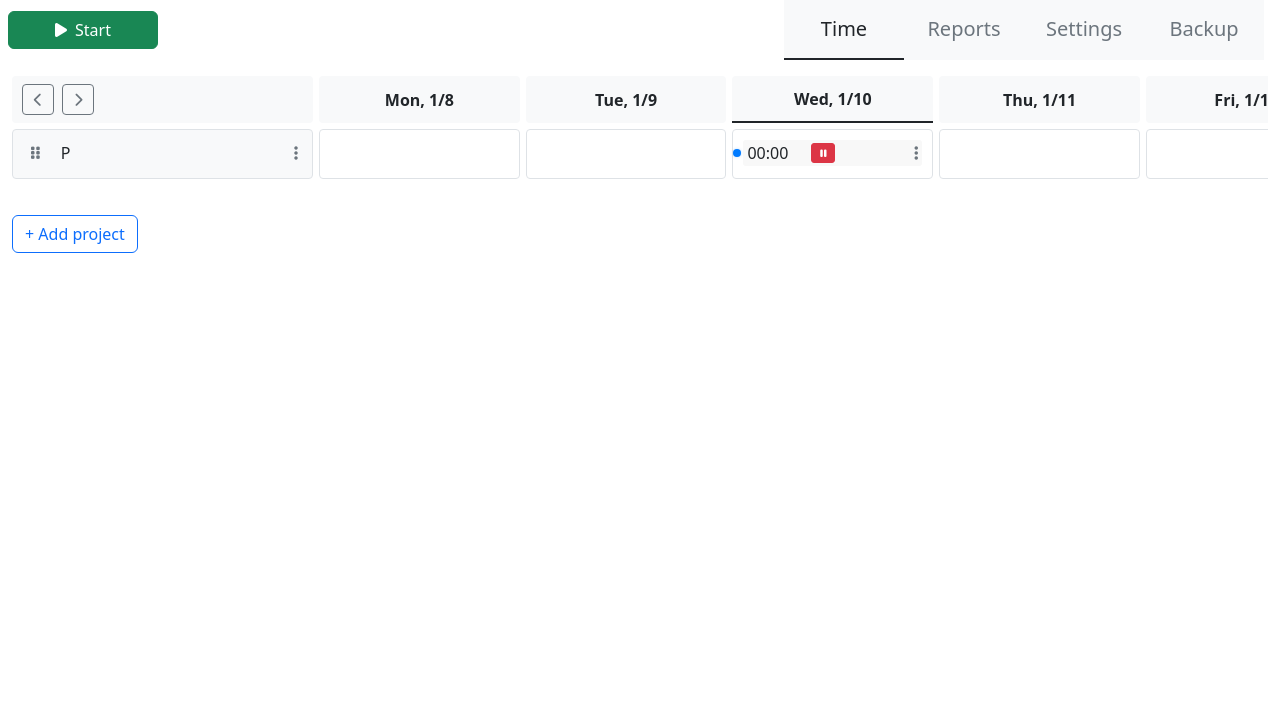
Test case: App flows › Edit billable rate affects Reports
# Open project menu
Click the 5th button at x=296, y=153, box 290,141 -> 302,165
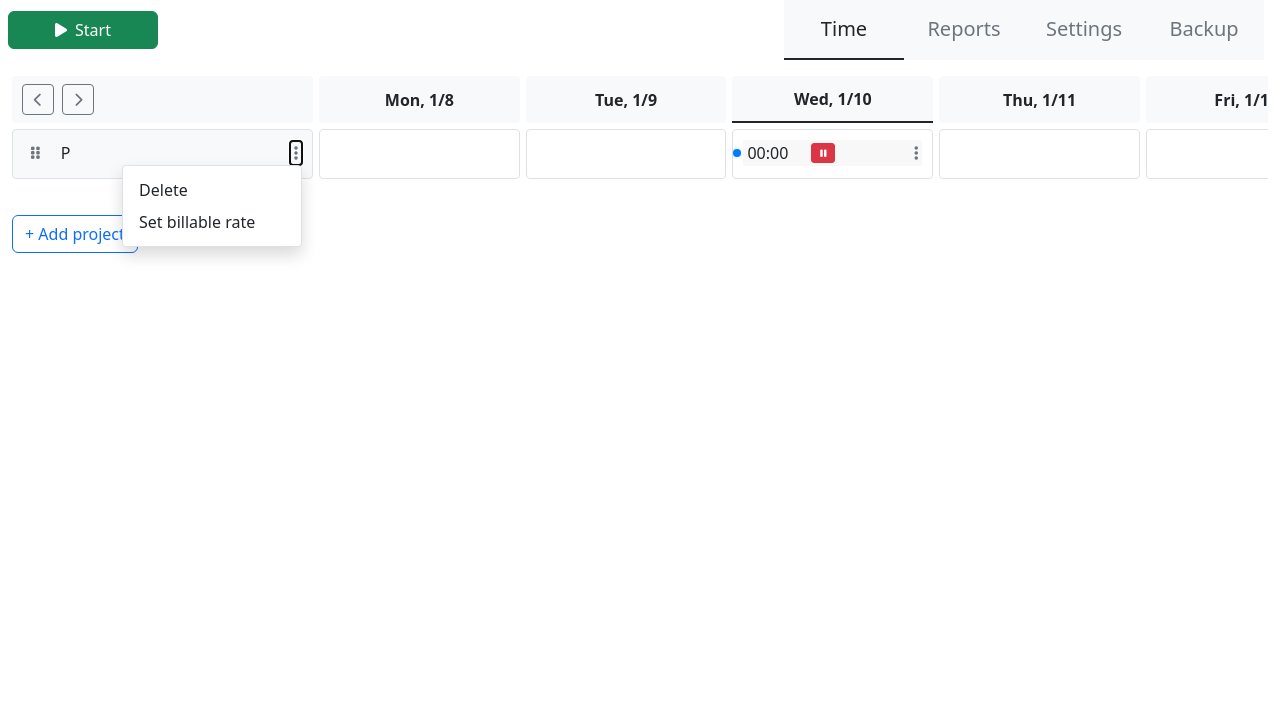
Click the button "Set billable rate" at x=212, y=222, box 123,206 -> 301,238
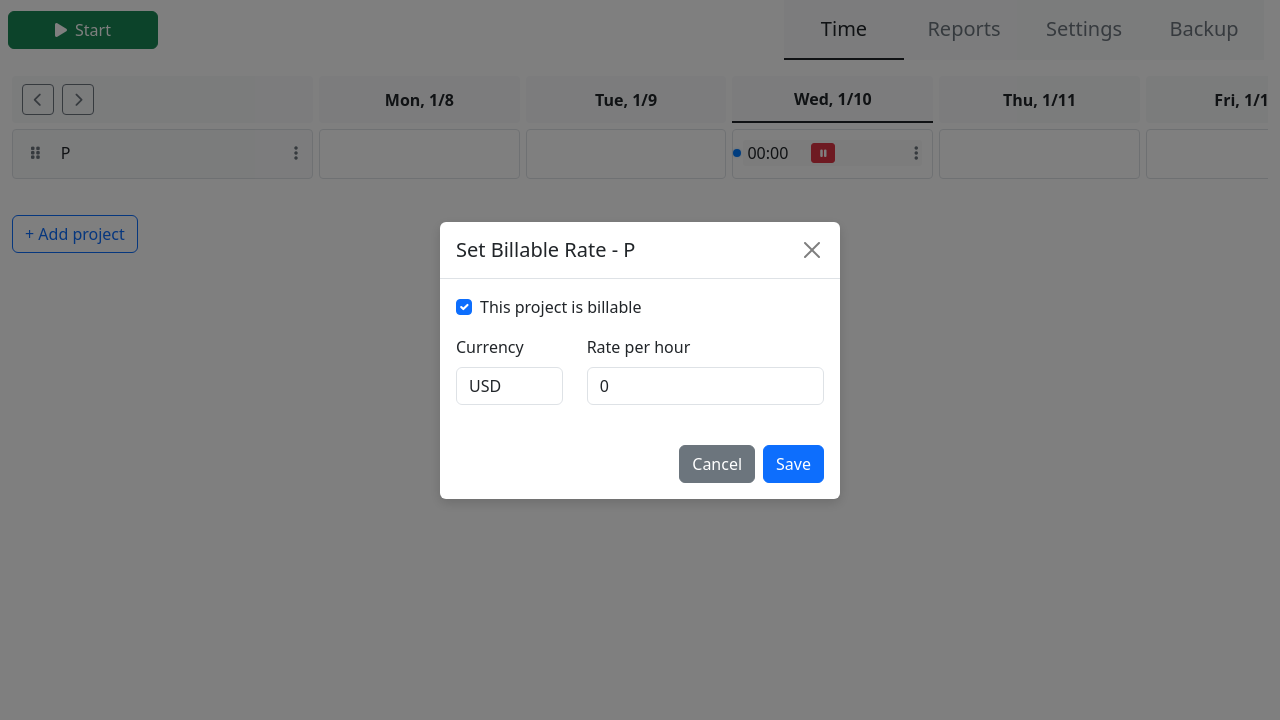
# Fill and save
Replace the text in the number field labelled "Rate per hour" with "100" at x=705, y=386, box 587,366 -> 824,404
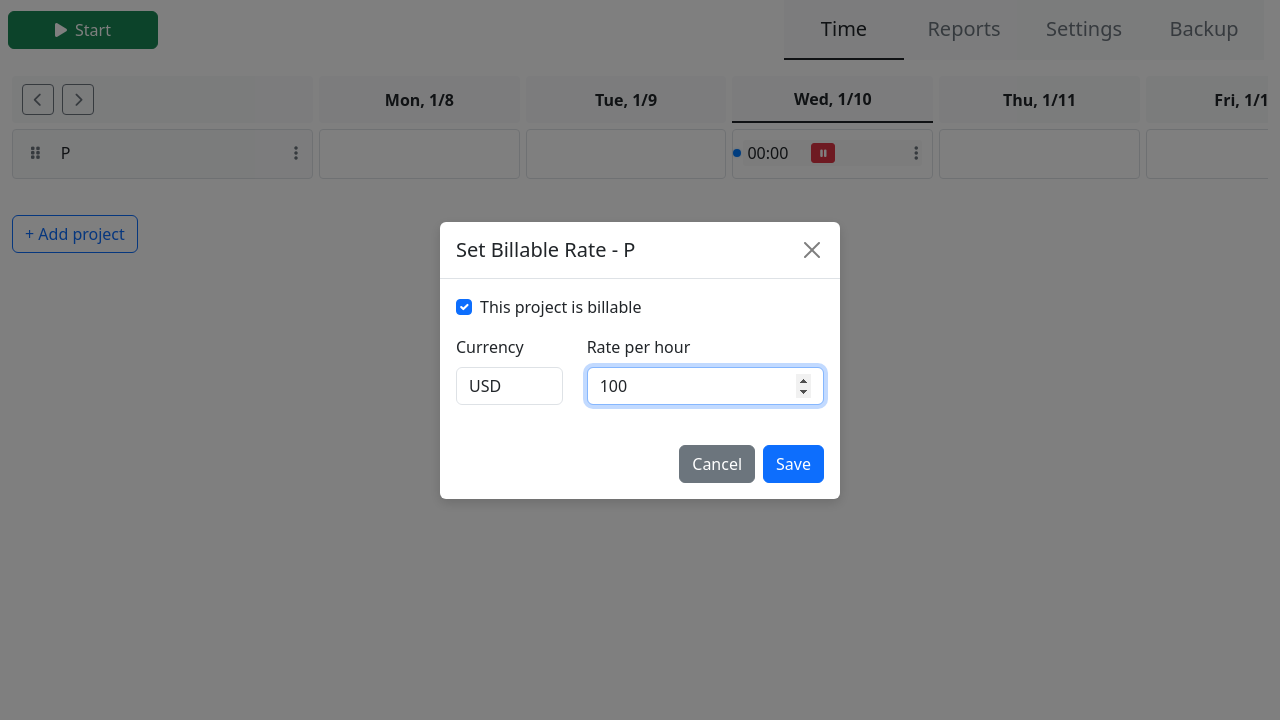
Click the button "Save" at x=794, y=464, box 763,444 -> 824,482
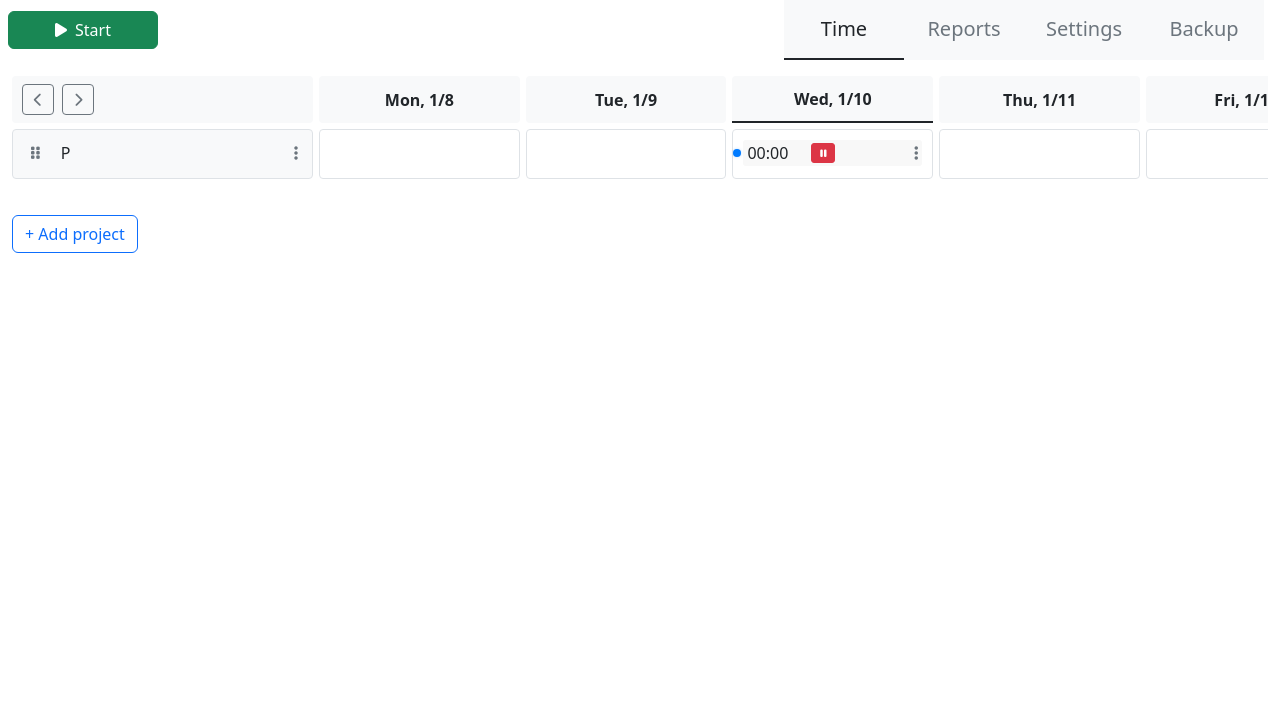
# Switch to Reports
Click the text "Reports" at x=964, y=30, box 904,0 -> 1024,60
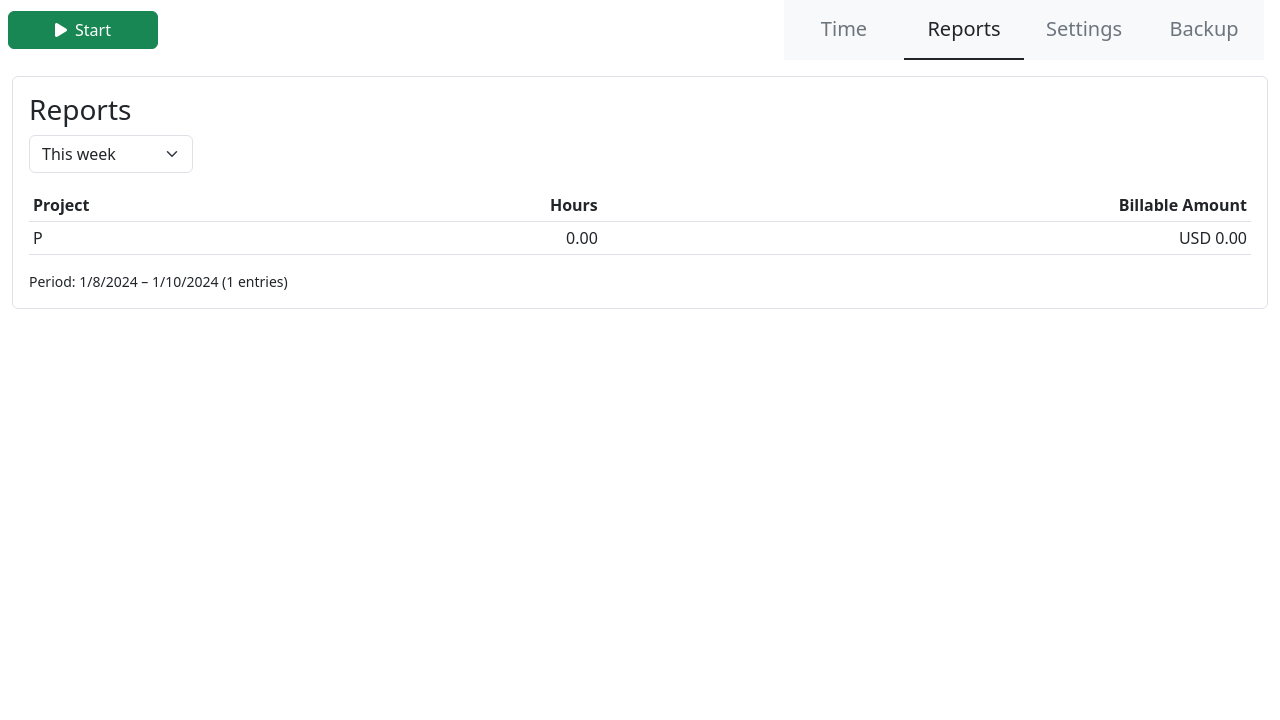
Expected: the column heading "Billable Amount" is shown, 602,189 -> 1251,221
